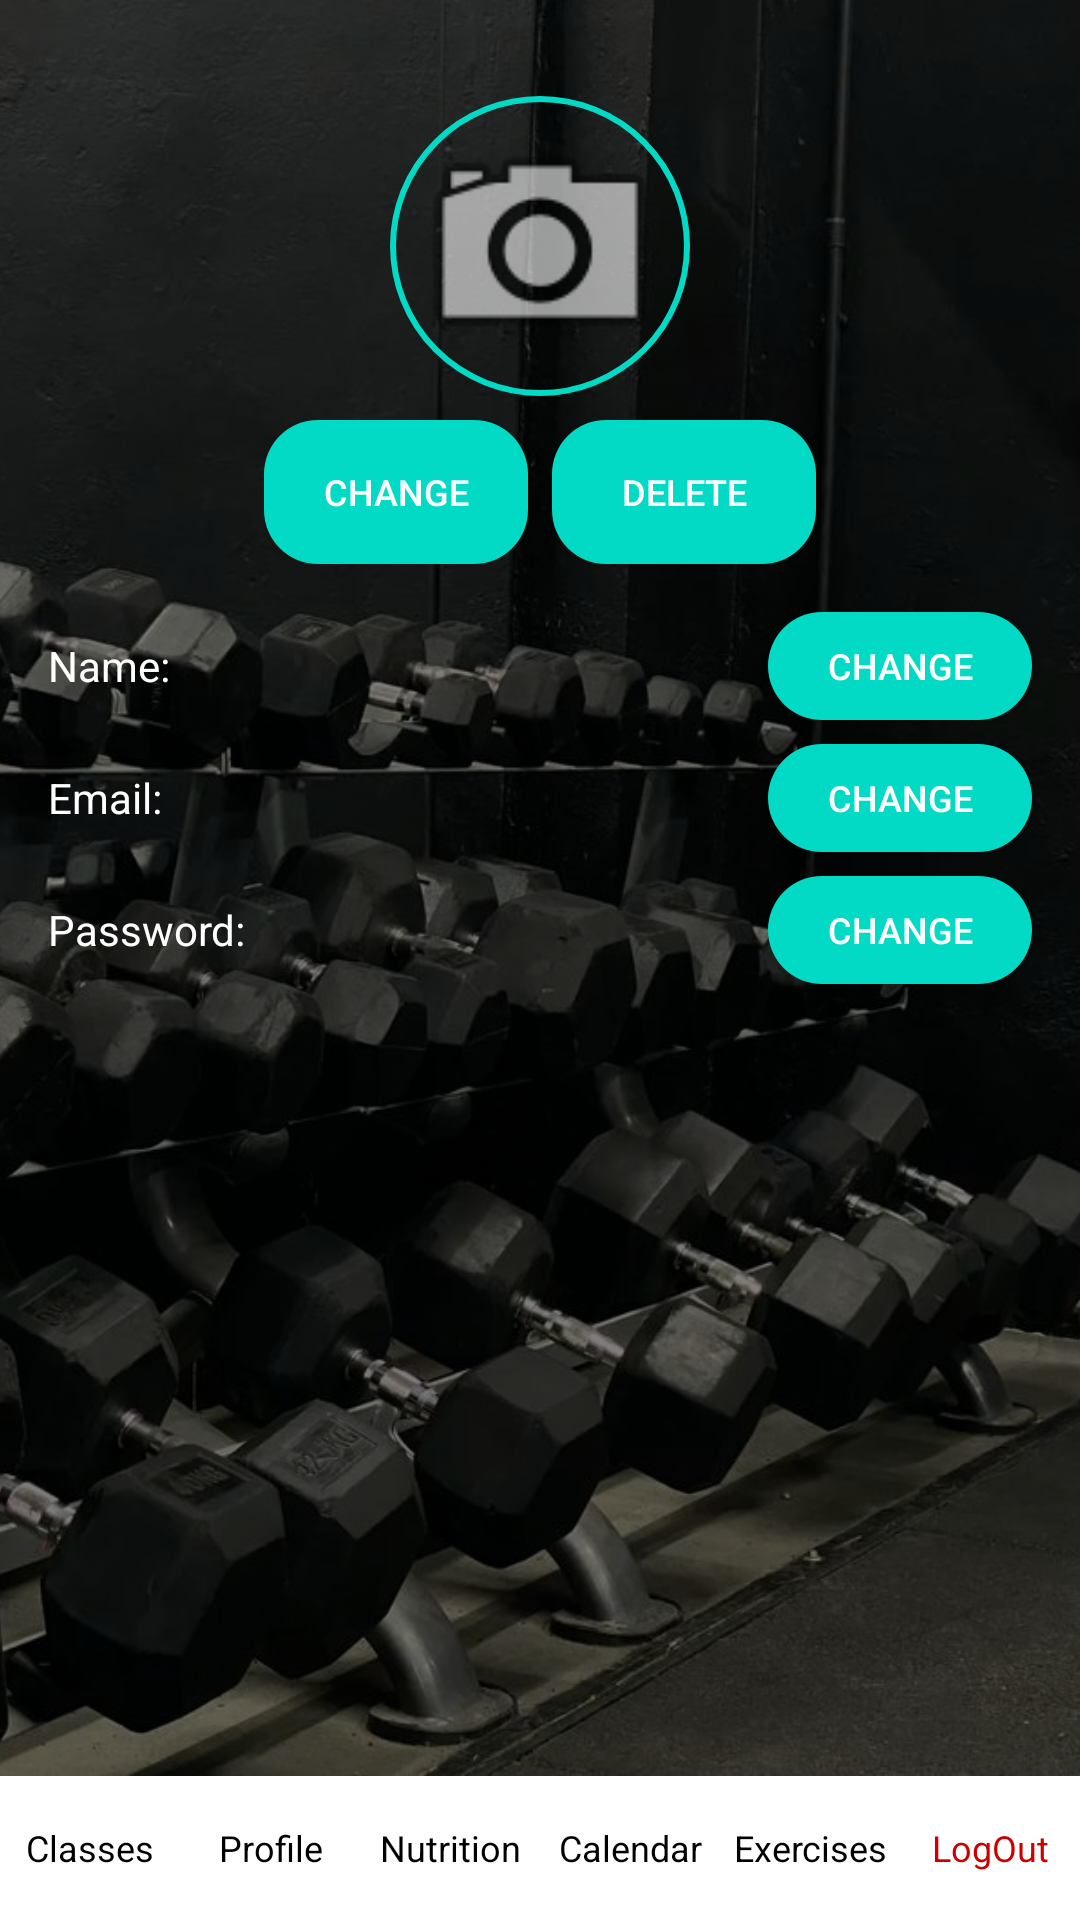

Locate icon controls on the screen. Image size 1080 × 1920, boxes as (x1, y1, x2, y2).
Profile Picture: (390, 96, 690, 396)
